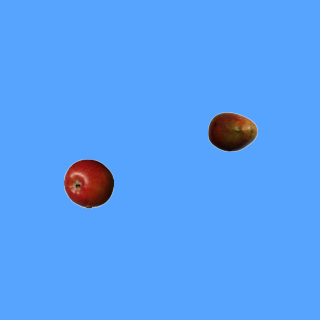Apple Braeburn: (63, 158, 113, 208)
Mango Red: (207, 106, 257, 156)
